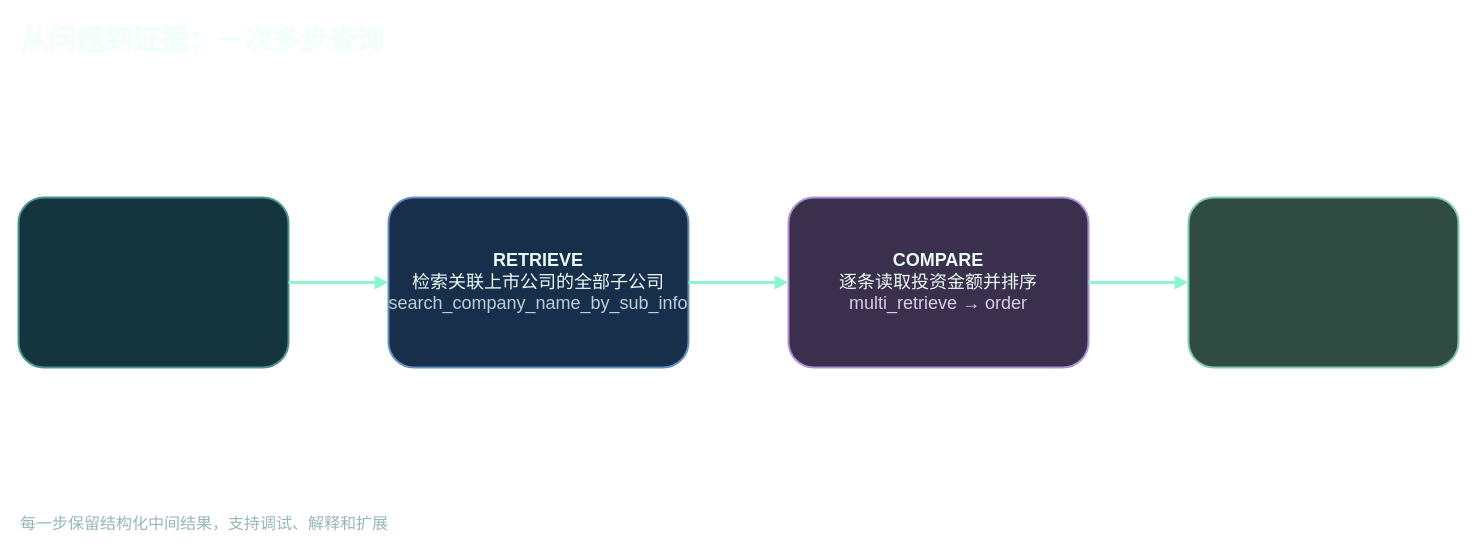
The diagram is 1476 pixels wide and 559 high, and some of its shapes have lost their labels. The box of each missing label's shape, as (x1, y1, x2, y2) in pixels:
ANSWER 返回最高投资对象、关系与金额 refine_answer: (1187, 196, 1459, 368)
INPUT 投资组合中谁获得最大投资？ 自然语言问题: (17, 196, 289, 368)
